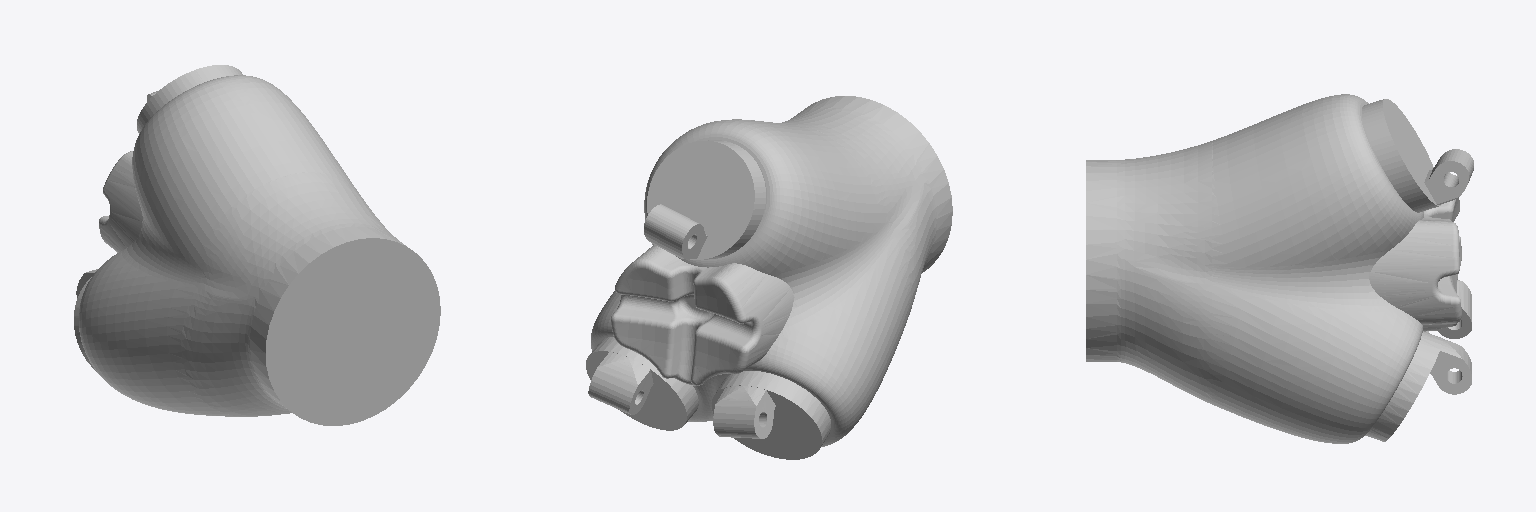
Rendered from hand_3finger.obj.
The picture shows the model from 3 angles: view 1: azimuth 30°, elevation 25°; view 2: azimuth 150°, elevation 25°; view 3: azimuth 270°, elevation 25°; orthographic projection.
Bounding box in the file's own units: 0.0927 × 0.1051 × 0.121.